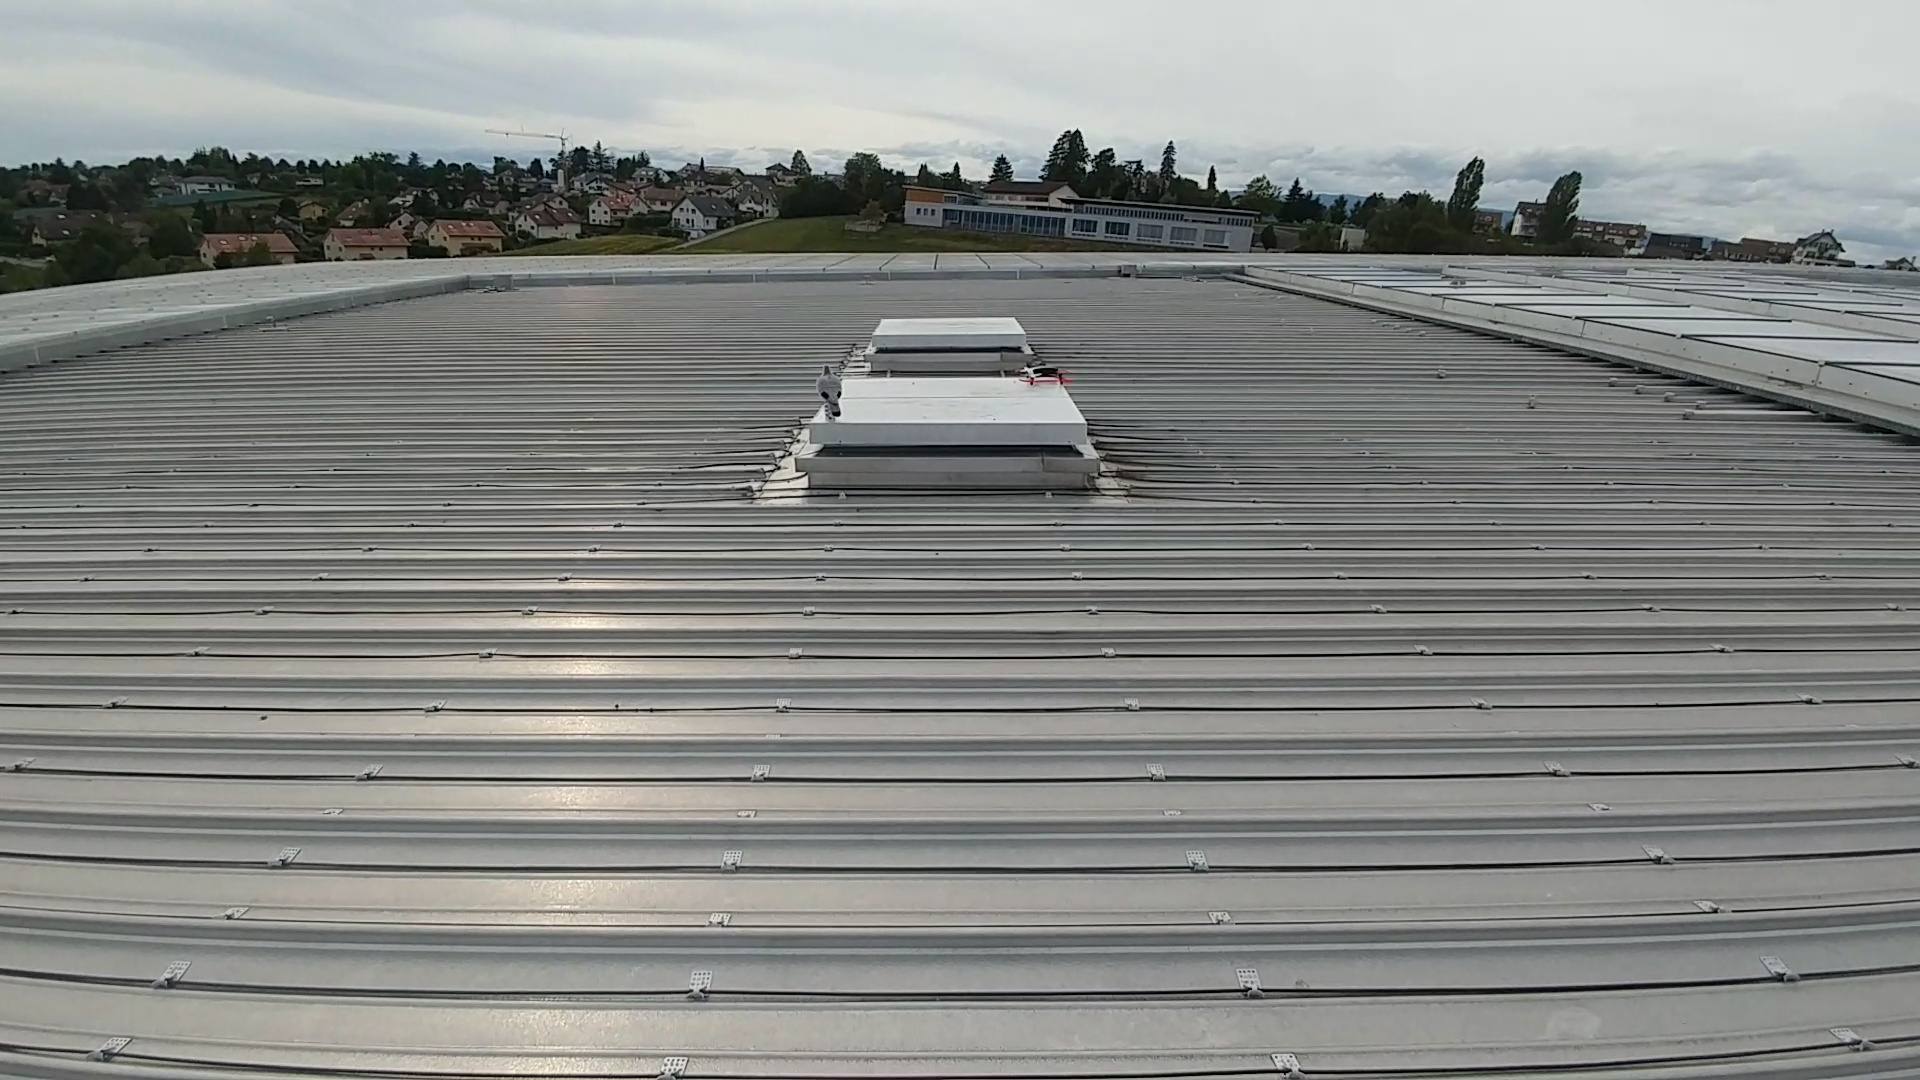Pigeon: (808, 364, 848, 425)
